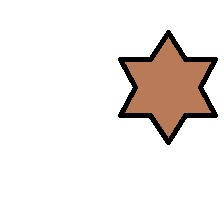star: (117, 30, 217, 144)
